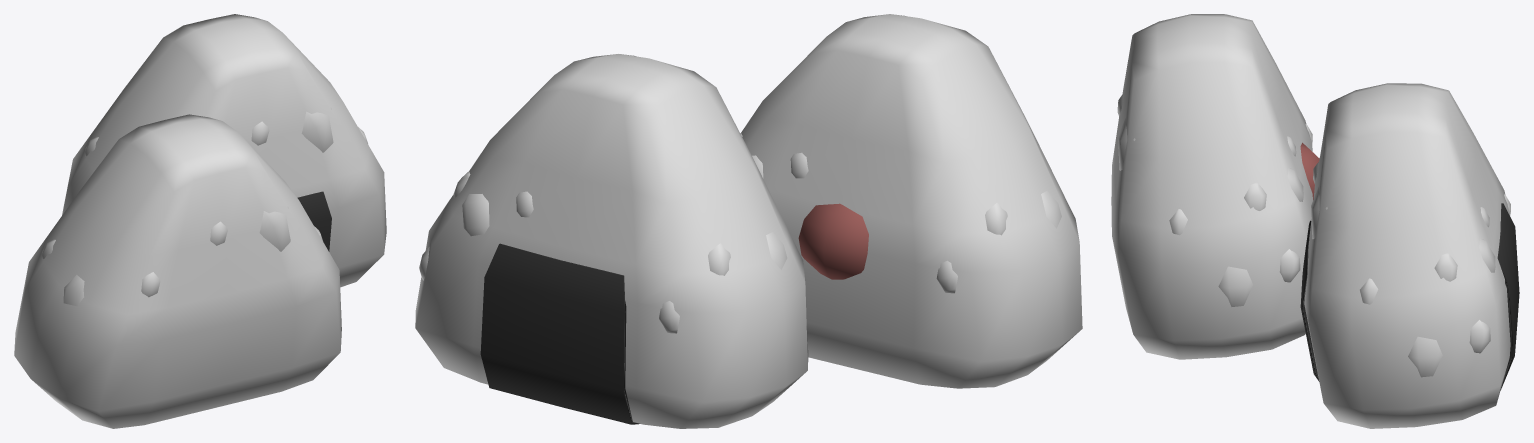
Rendered from riceball.fbx.
The picture shows the model from 3 angles, left to right: view 1: azimuth 30°, elevation 25°; view 2: azimuth 150°, elevation 25°; view 3: azimuth 270°, elevation 25°; orthographic projection. The views are drawn at different scales.
Visible parts, largest first — view 1: riceball; view 2: riceball; view 3: riceball.
Boxes of the visible parts, x1,y1,x2,y2 form: riceball: (14,14,386,428); riceball: (415,14,1082,428); riceball: (1111,14,1519,428).
Size of the model in its own units: 11.16 by 6.56 by 8.59.
